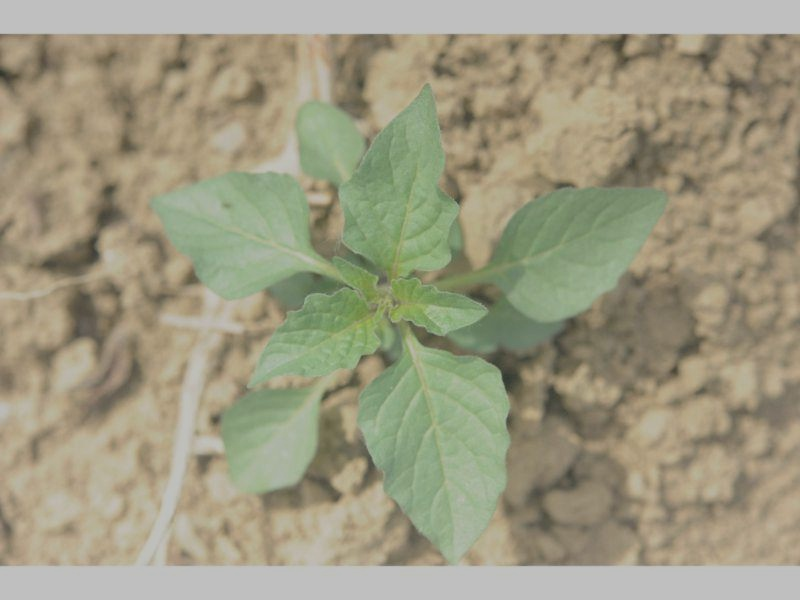nightshade: (150, 82, 670, 566)
